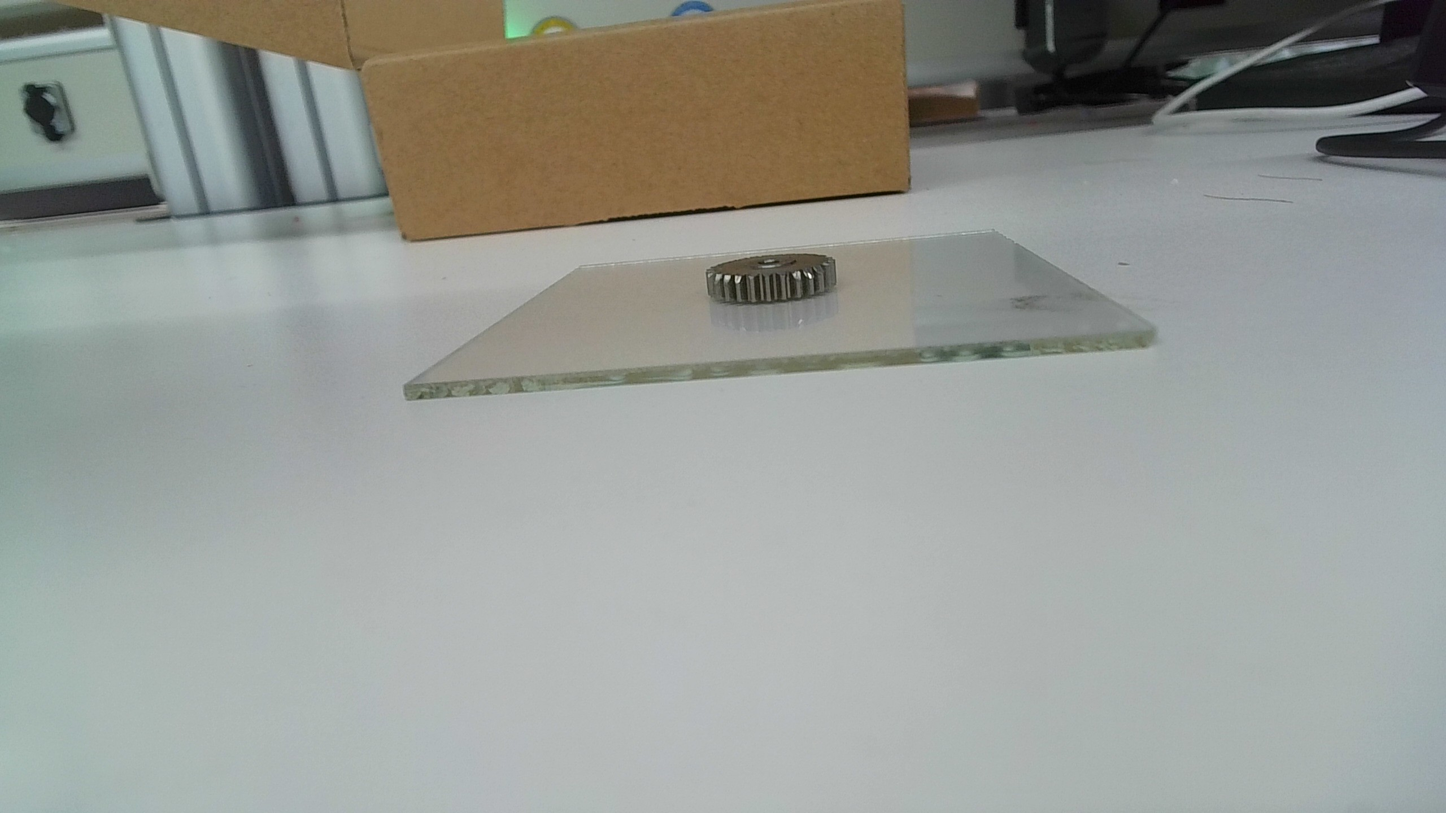gear: (704, 248, 840, 304)
